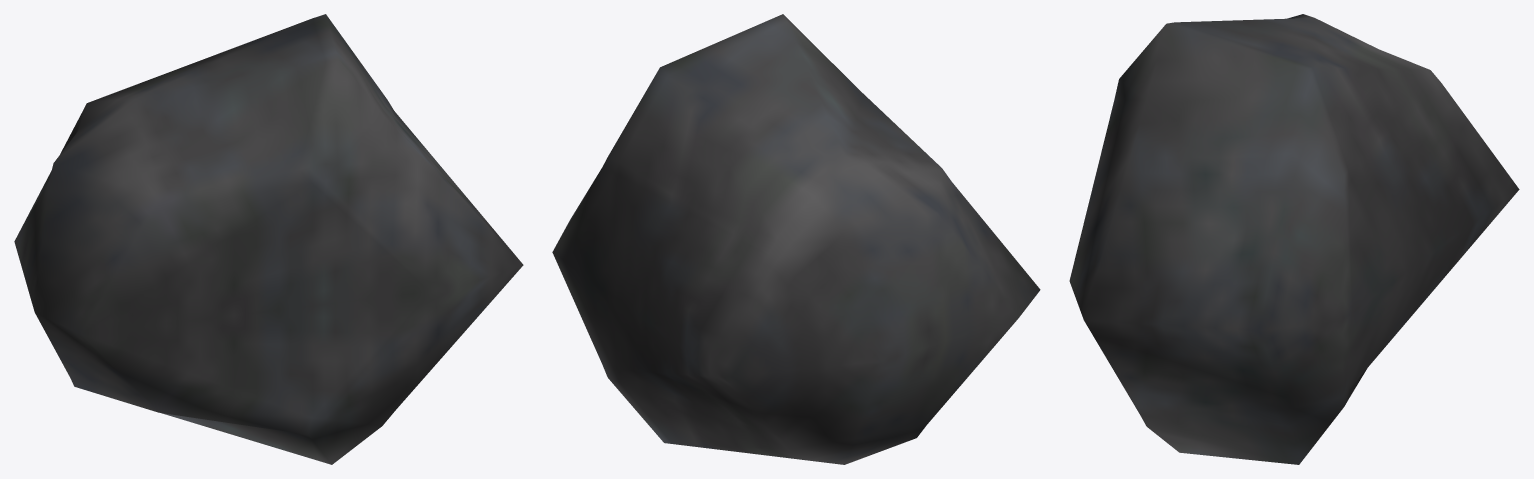
The model's file is detail_mesh_0.fbx.
3 renders of one model, left to right at view 1: azimuth 30°, elevation 25°; view 2: azimuth 150°, elevation 25°; view 3: azimuth 270°, elevation 25°, orthographic. The views are drawn at different scales.
Visible parts, largest first — view 1: envPrfRock_detailstoneA_highland_detail; view 2: envPrfRock_detailstoneA_highland_detail; view 3: envPrfRock_detailstoneA_highland_detail.
Part boxes in pixels (<box>): envPrfRock_detailstoneA_highland_detail: <box>14,14,523,464</box>; envPrfRock_detailstoneA_highland_detail: <box>552,14,1040,464</box>; envPrfRock_detailstoneA_highland_detail: <box>1069,14,1519,464</box>.
Size of the model in its own units: 0.4743 by 0.4265 by 0.4054.
